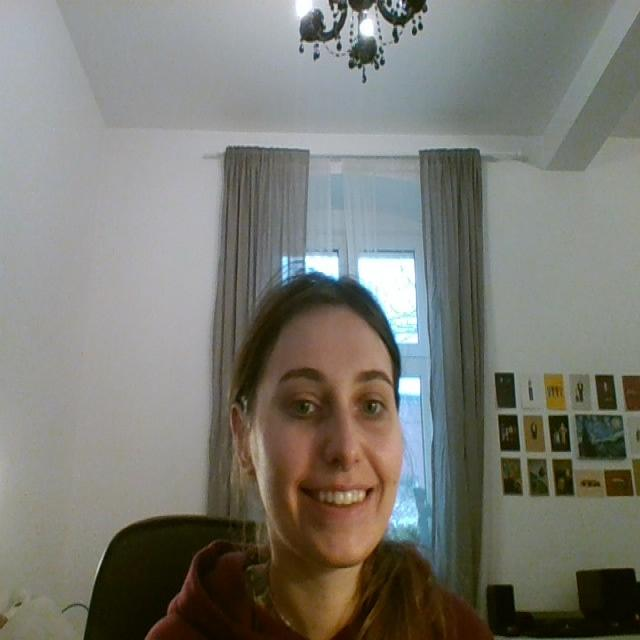eye: (280, 390, 329, 422), (351, 391, 393, 422)
gaze: (296, 400, 310, 414), (363, 401, 378, 414)
